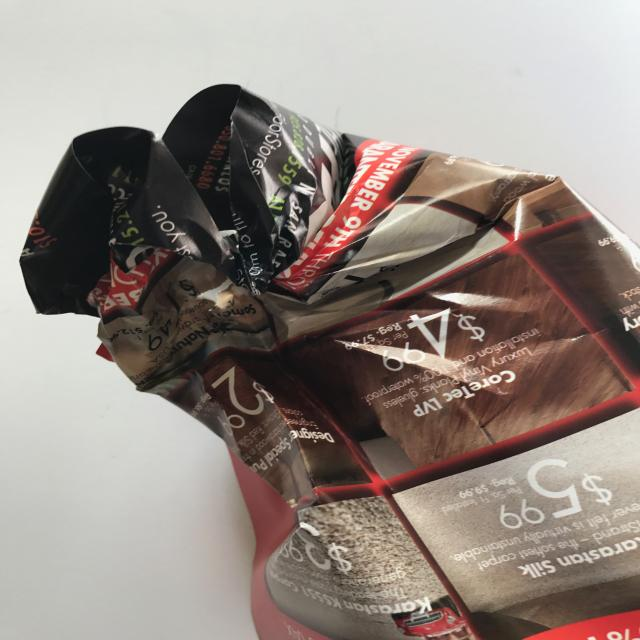paper: (18, 83, 638, 638)
